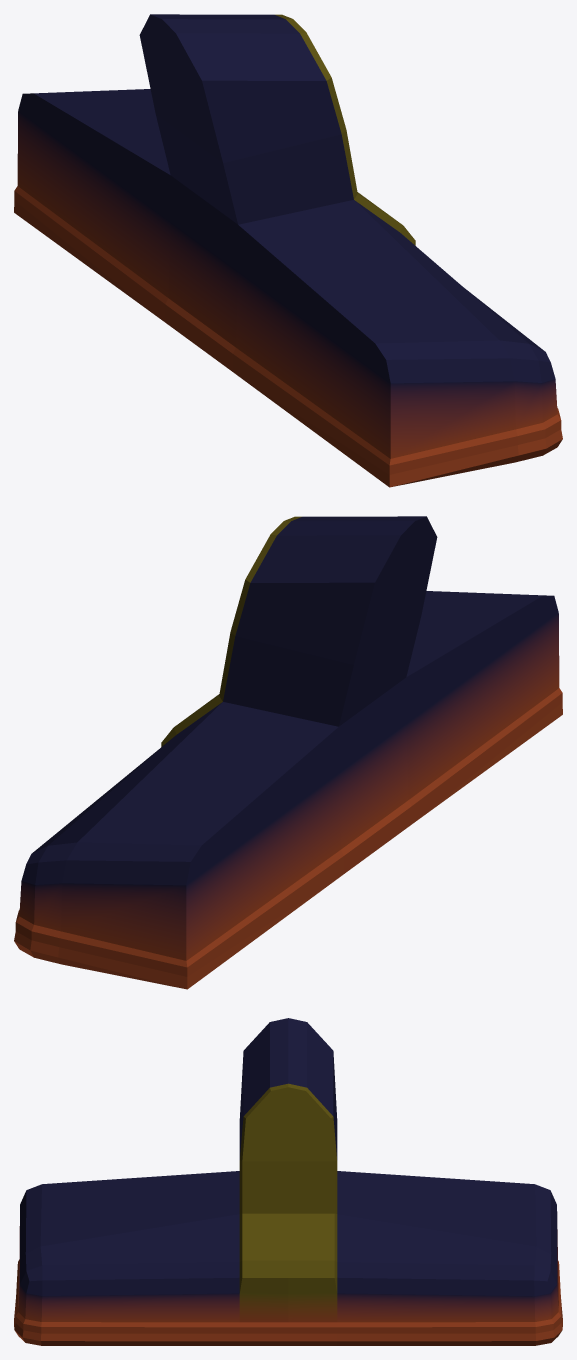
The model's file is VacuumHeadColliderMesh.fbx.
The picture shows the model from 3 angles, top to bottom: view 1: azimuth 30°, elevation 25°; view 2: azimuth 150°, elevation 25°; view 3: azimuth 270°, elevation 25°; orthographic projection. The views are drawn at different scales.
Visible parts, largest first — view 1: VacuumHeadColliderMesh; view 2: VacuumHeadColliderMesh; view 3: VacuumHeadColliderMesh.
Boxes of the visible parts, bbox=[...] form: VacuumHeadColliderMesh: bbox=[14, 14, 562, 487]; VacuumHeadColliderMesh: bbox=[14, 516, 562, 989]; VacuumHeadColliderMesh: bbox=[14, 1018, 562, 1345].
Bounding box in the file's own units: 15.67 × 22.89 × 45.56.
